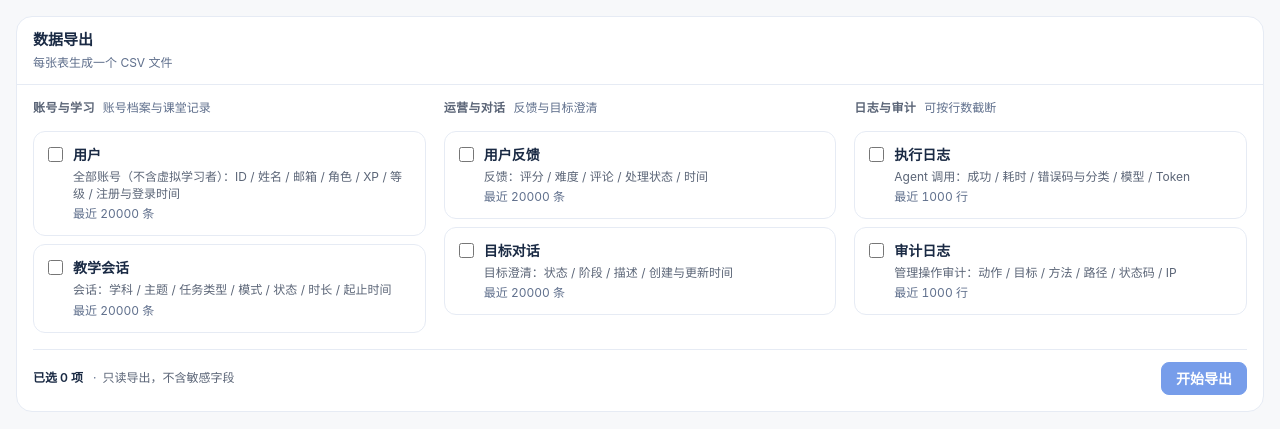
Test: 数据导出面板（原系统工具 Tab2） › 六张数据表按组平铺为选择卡 + 「开始导出」；无选中时主钮禁用
Check: the number of elements with class "exp-group" is 3, box [33,98,426,333]; [444,98,836,315]; [854,98,1247,315]
Check: the button "开始导出" is disabled, box [1161,362,1247,395]
Click the 1st checkbox at (56, 154), box [48,146,63,162]
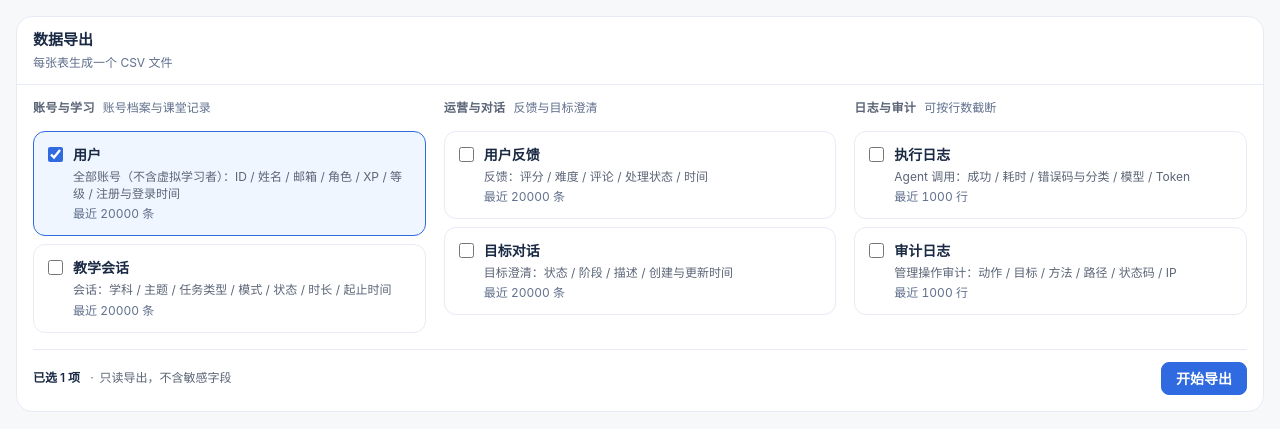
Click the checkbox labelled "教学会话 会话：学科 / 主题 / 任务类型 / 模式 / 状态 / 时长 / 起止时间 最近 20000 条" at (56, 268), box [48,260,63,275]
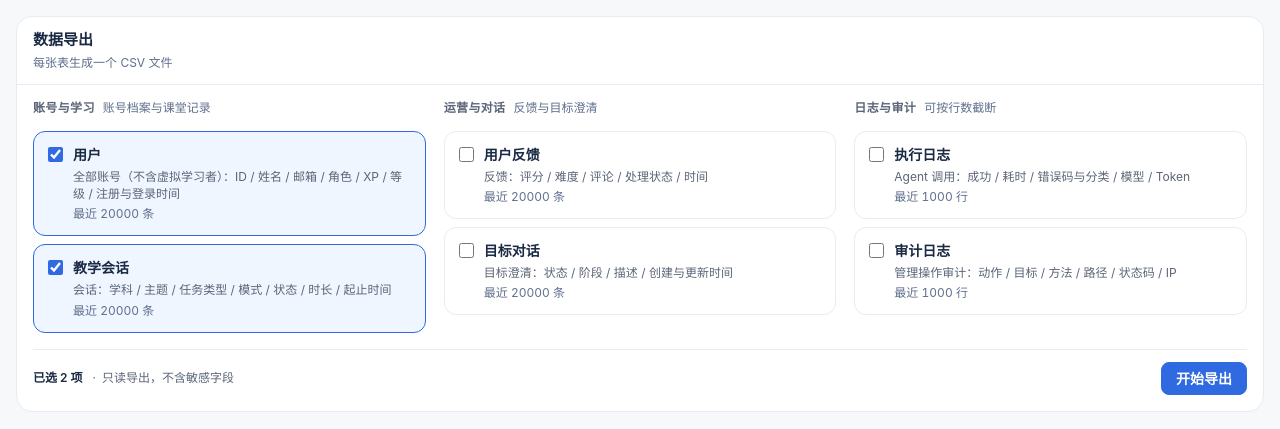
Check: the button "开始导出" is enabled, box [1161,362,1247,395]
Check: the text "已选 2 项" is shown, box [33,369,82,387]
Click the checkbox labelled "执行日志 Agent 调用：成功 / 耗时 / 错误码与分类 / 模型 / Token 最近 1000 行" at (877, 154), box [869,146,884,162]
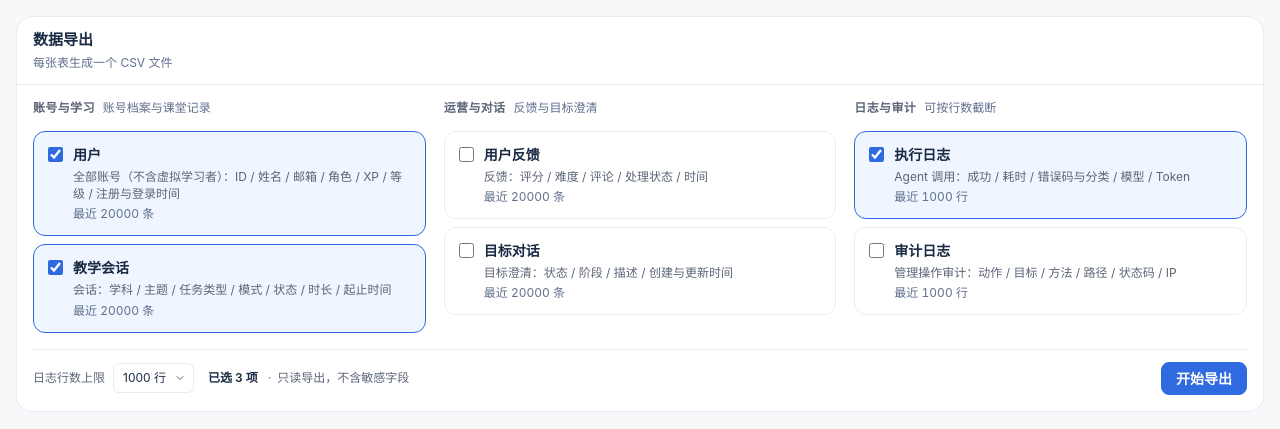
Check: the text "日志行数上限 1000 行" is shown, box [33,363,194,393]
